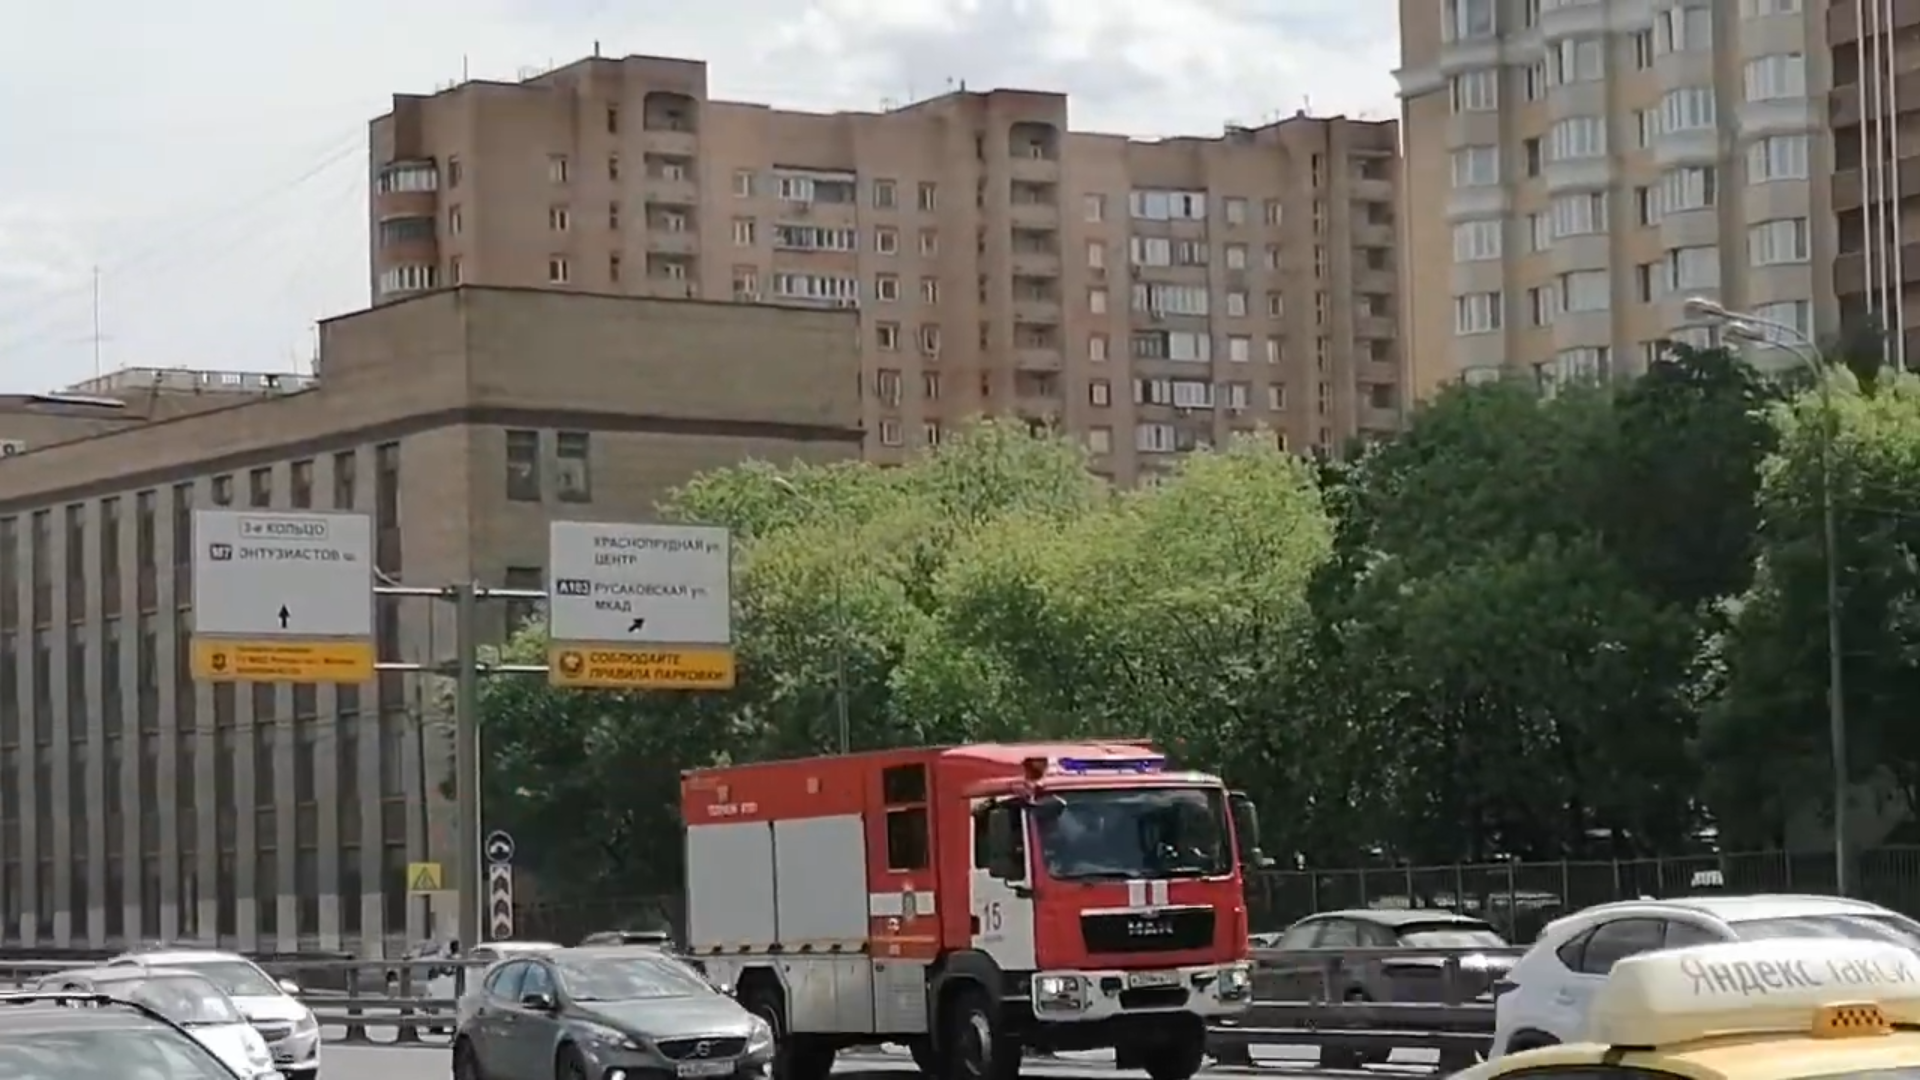fire fighting vehicle: (679, 746, 1242, 1075)
non emergency car: (1493, 884, 1919, 1065), (455, 947, 773, 1075), (1247, 902, 1509, 1021), (105, 936, 310, 1075)
